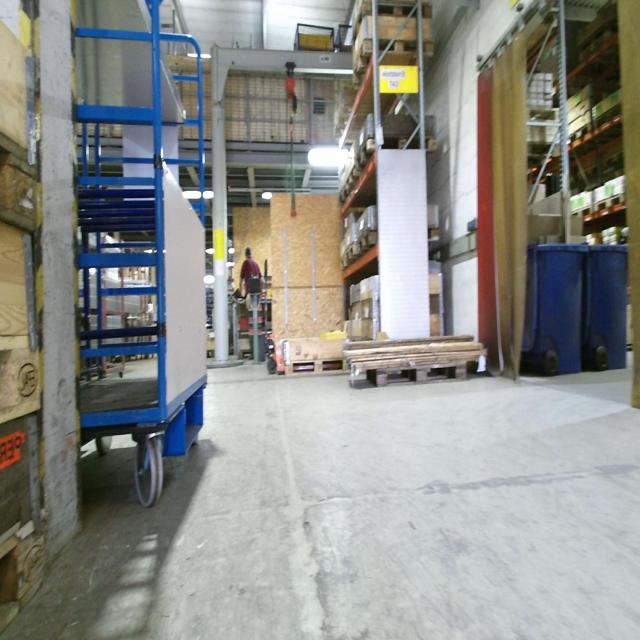pallet: (0, 509, 44, 639), (2, 118, 45, 234), (2, 329, 42, 445), (352, 44, 437, 97), (350, 3, 432, 50), (357, 134, 433, 184), (353, 225, 444, 263), (351, 361, 466, 387), (578, 27, 620, 67), (283, 360, 344, 382), (560, 204, 593, 230), (592, 193, 625, 218), (566, 122, 593, 152), (338, 242, 360, 277), (587, 110, 626, 128), (349, 165, 359, 202), (338, 186, 347, 214)
pallet_truck: (263, 260, 285, 376)
